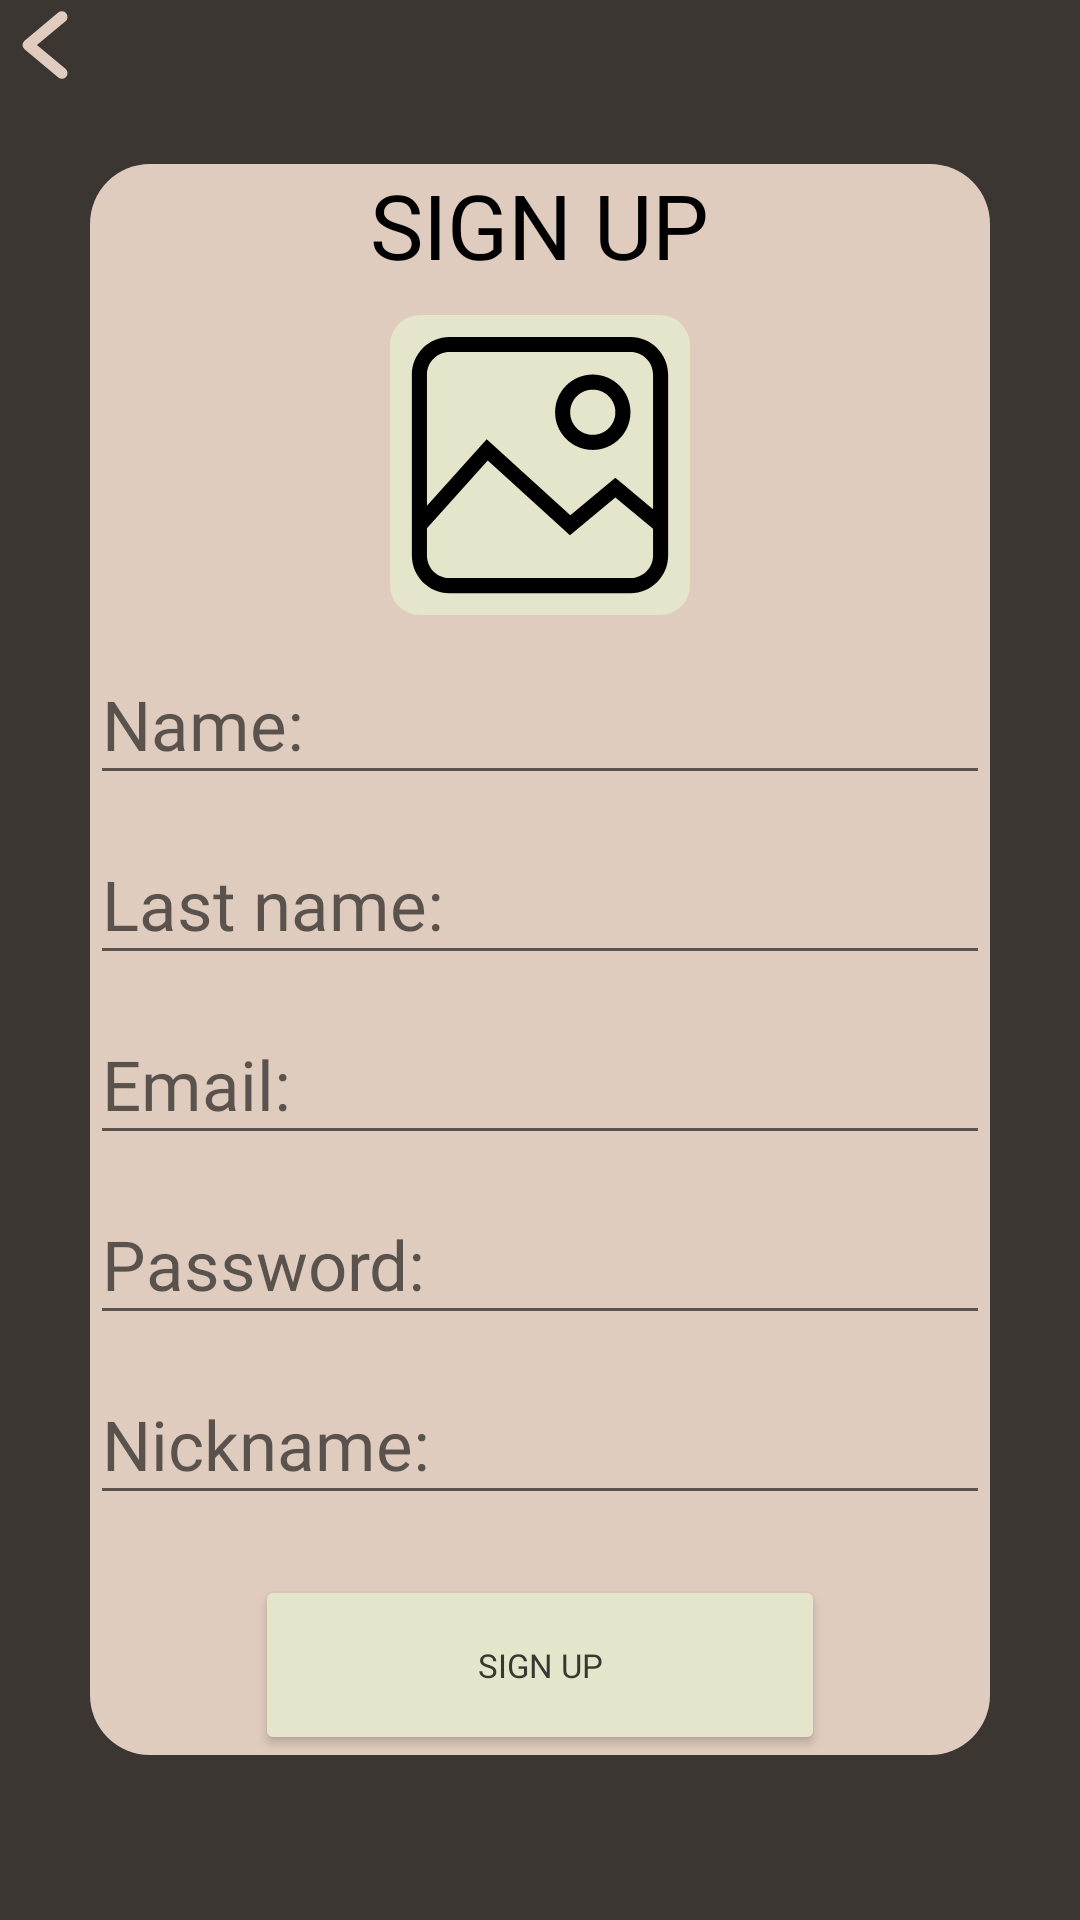

Icons on this 1080px×1920px Android screen, each with the point to tap as (x,y):
gallery images photo picture: (540,465)
